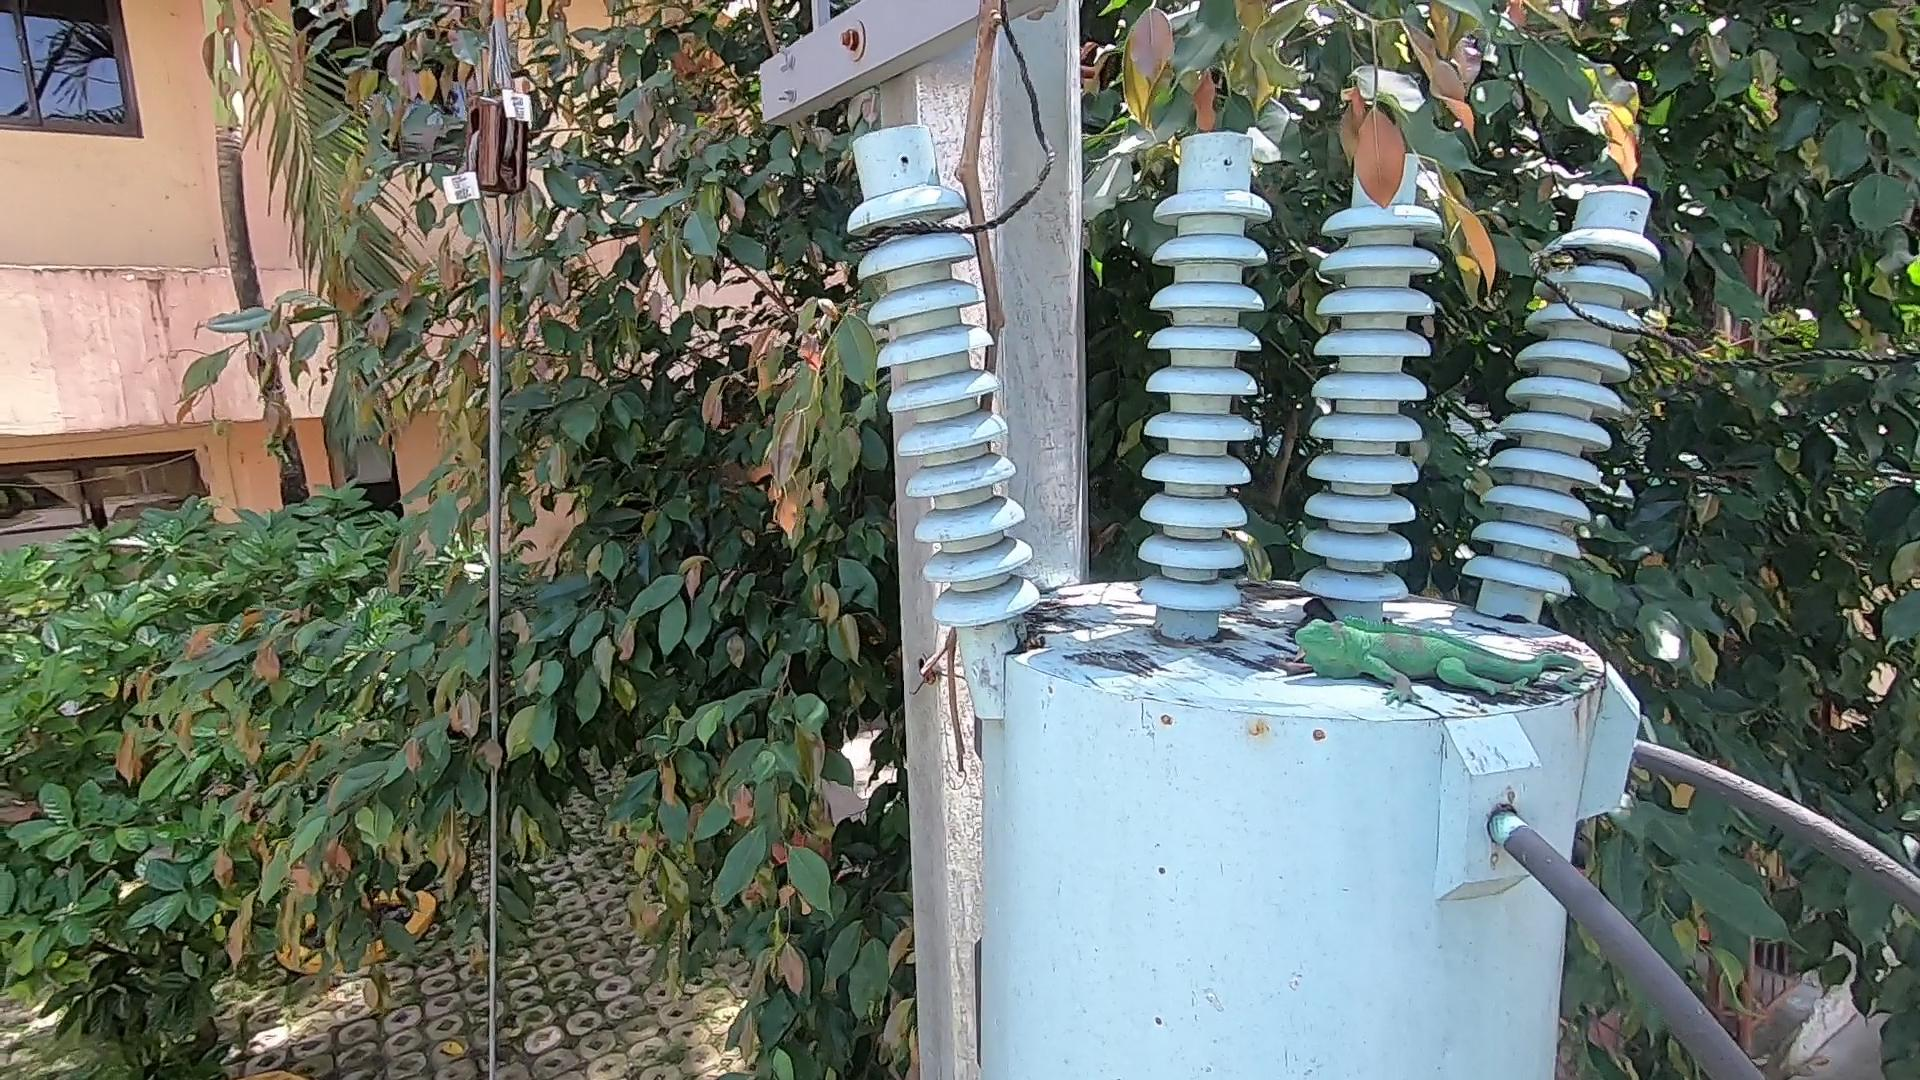branch with leaves: (1302, 44, 1520, 327)
leaf: (1006, 611, 1062, 653), (1288, 593, 1340, 637)
tree branch: (884, 3, 1040, 782)
